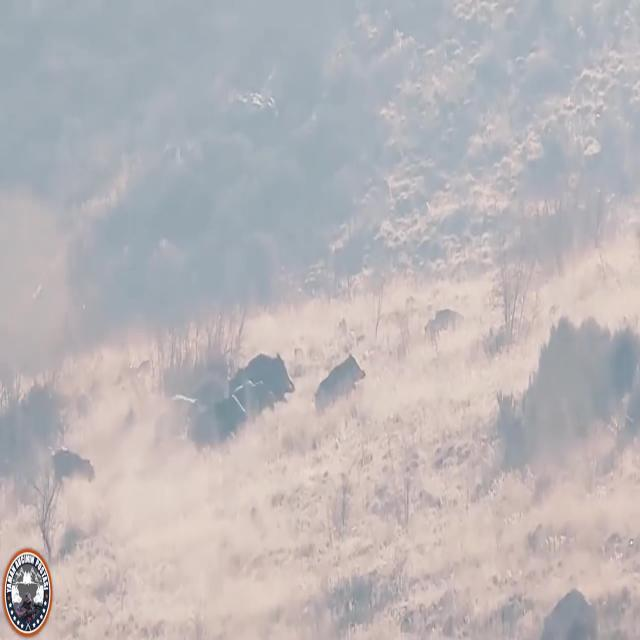pig: (210, 343, 318, 411), (312, 331, 360, 424)
